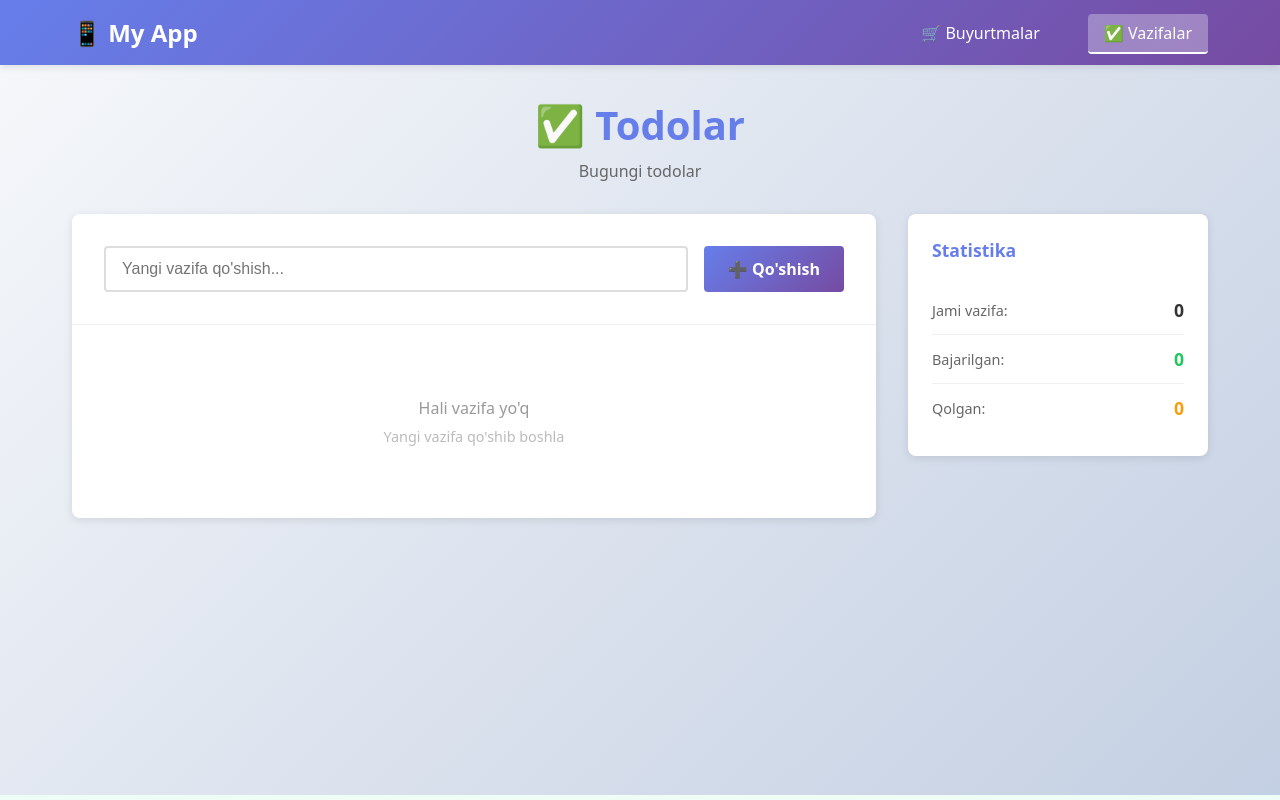
Todo App › yangi todo qoshish
Type "Cypress todo" into the field with placeholder "Yangi vazifa qo'shish...". click: (396, 269)
box: [104,246,688,292]
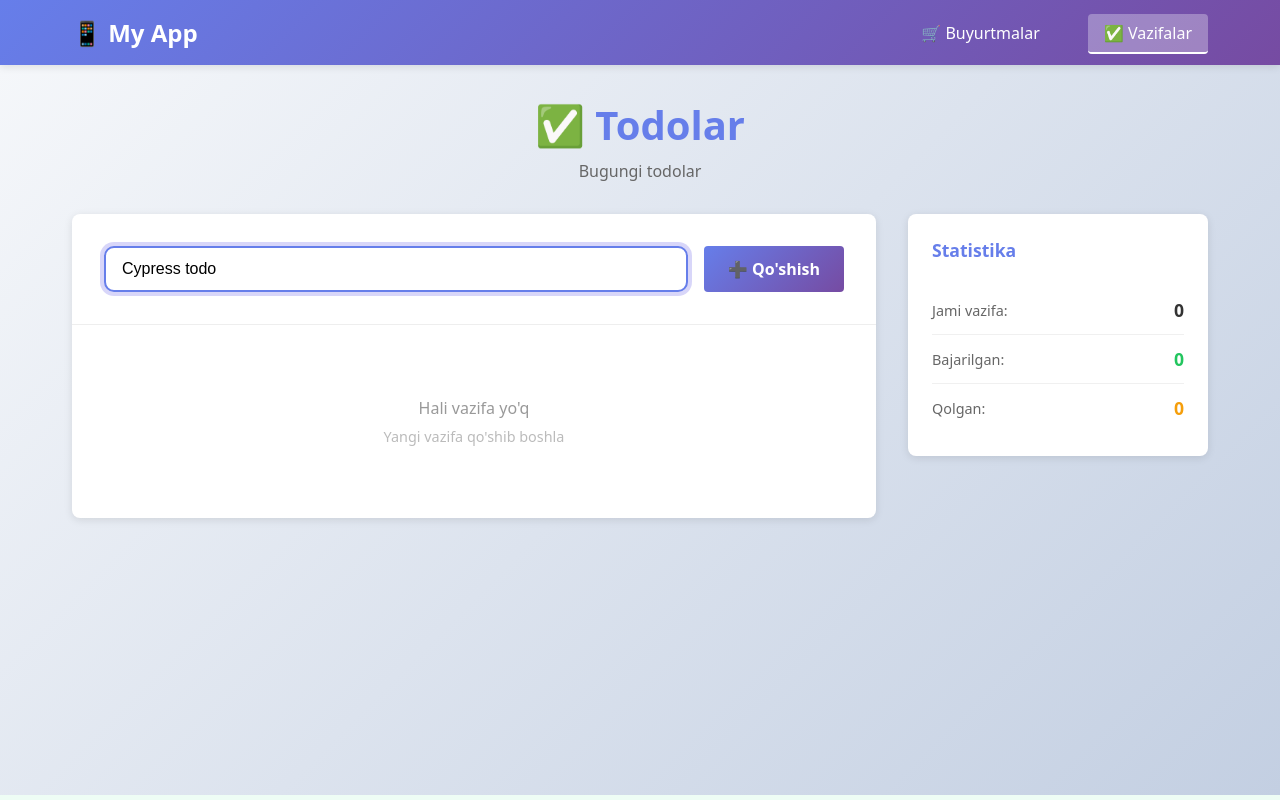
Click the button "➕ Qo'shish". click: (774, 269)
box: [704,246,844,292]
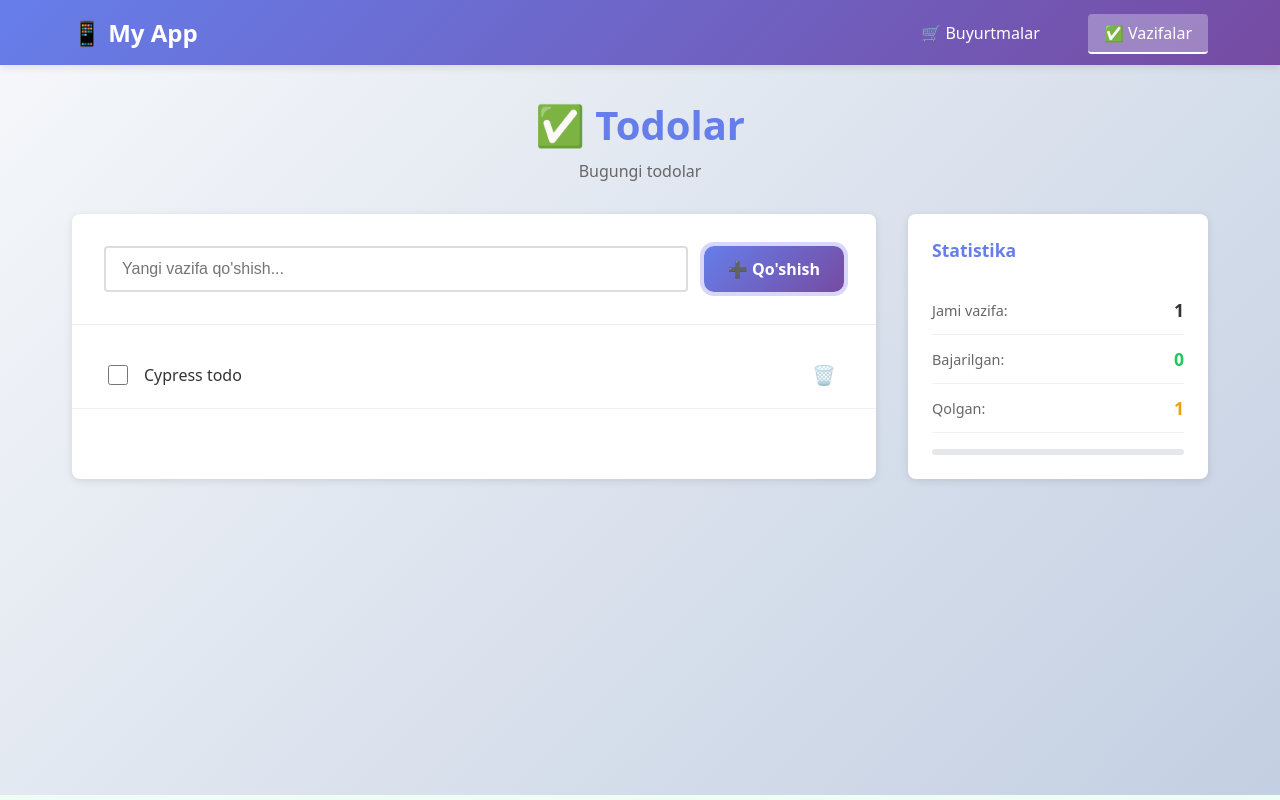
Expected: the text "Cypress todo" is shown, [144,364,242,386]
